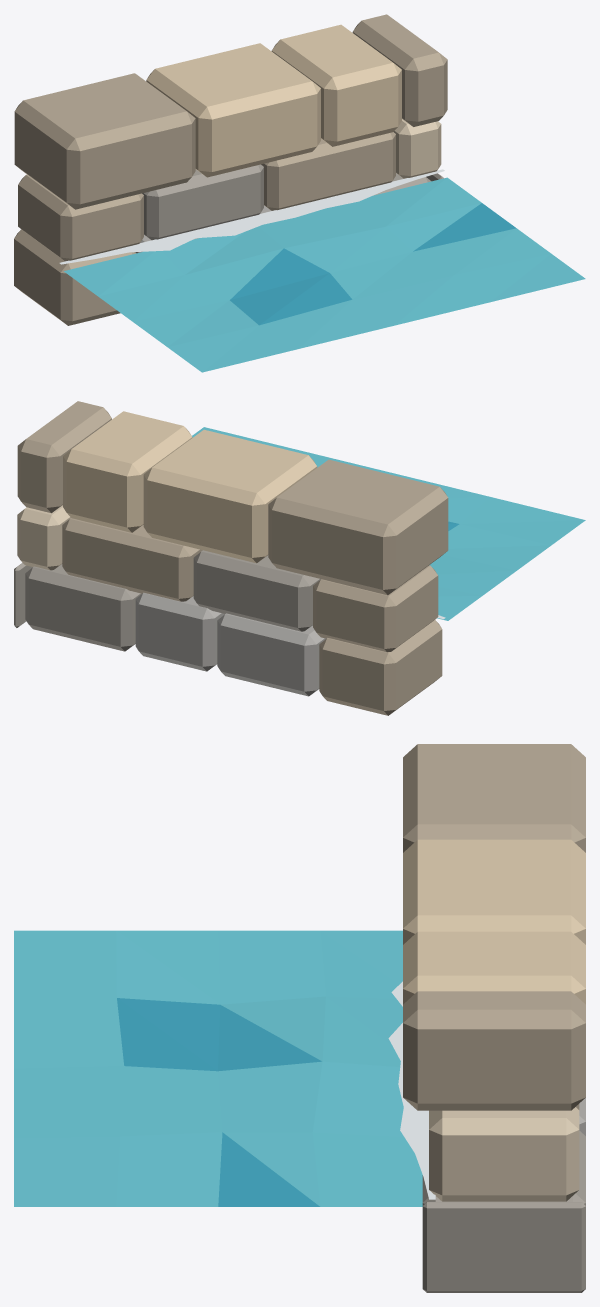
File: water_edge_2m.glb
The picture shows the model from 3 angles, top to bottom: view 1: azimuth 30°, elevation 25°; view 2: azimuth 150°, elevation 25°; view 3: azimuth 270°, elevation 25°; orthographic projection. The views are drawn at different scales.
Parts seen in each view (by area): view 1: water_edge_2m, part_foam; view 2: water_edge_2m; view 3: water_edge_2m, part_foam.
Part boxes in pixels (x1,y1,x2,y2): water_edge_2m: (14,14,585,372); part_foam: (59,169,444,264); water_edge_2m: (14,401,585,715); water_edge_2m: (14,744,585,1292); part_foam: (388,981,435,1199).
Size of the model in its own units: 2 by 0.9544 by 1.75.
